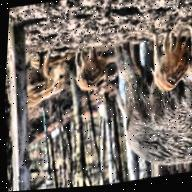boar: (105, 24, 192, 176), (4, 48, 73, 113), (146, 26, 192, 94), (70, 45, 110, 93)
